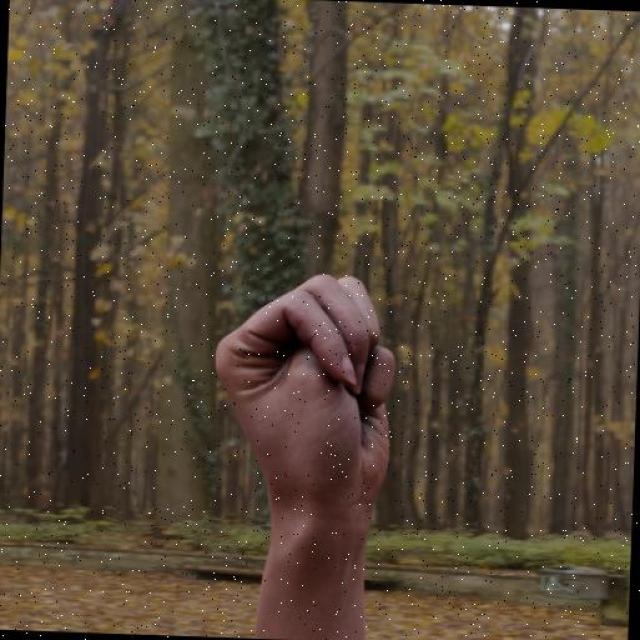M: (193, 245, 476, 540)
